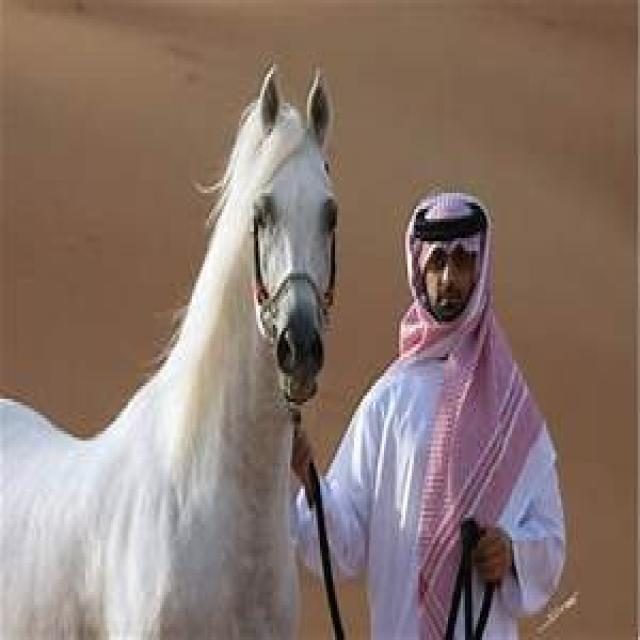horse: (0, 63, 339, 640)
